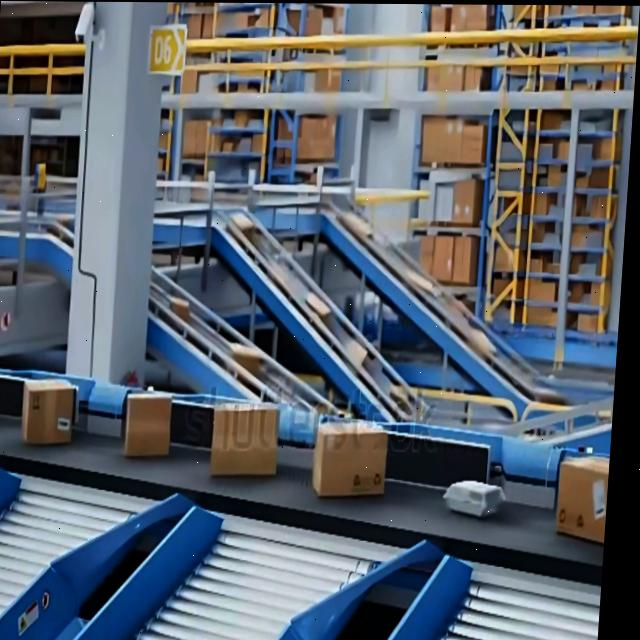product 1: (310, 417, 389, 497), (207, 401, 280, 476), (121, 390, 173, 456)
product 2: (440, 477, 479, 517)
